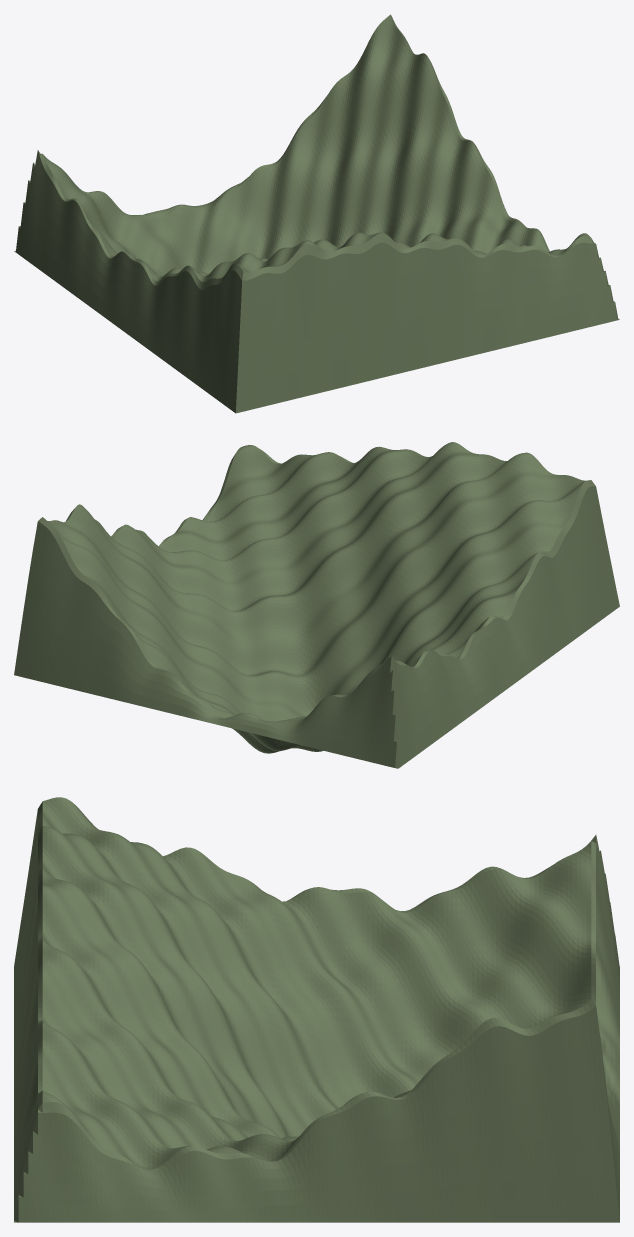
Rendered from pine_mist_lakes.obj.
3 views of the same model, one above another, from view 1: azimuth 30°, elevation 25°; view 2: azimuth 150°, elevation 25°; view 3: azimuth 270°, elevation 25° (orthographic). The views are drawn at different scales.
Parts seen in each view (by area): view 1: pine_mist_lakes; view 2: pine_mist_lakes; view 3: pine_mist_lakes.
Part boxes in pixels (box(x1,y1,x2,y2)): pine_mist_lakes: box(14, 14, 619, 413); pine_mist_lakes: box(14, 442, 619, 768); pine_mist_lakes: box(14, 797, 619, 1222).
Bounding box in the file's own units: 28 × 16.32 × 28.
